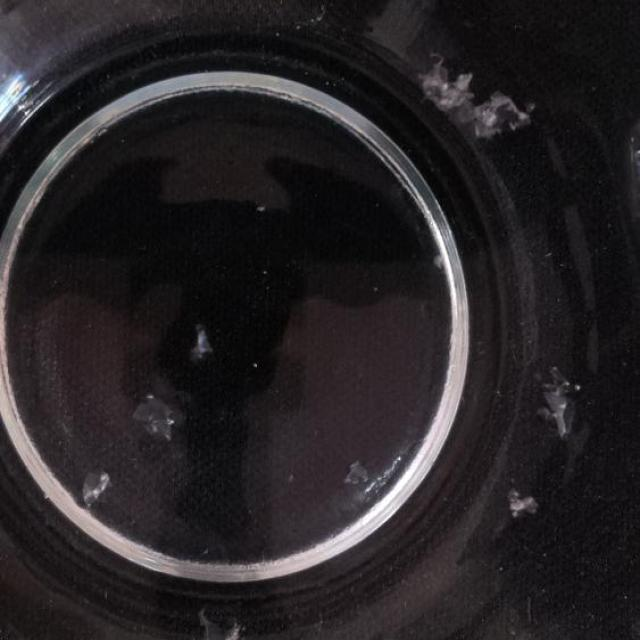fiber: (414, 59, 530, 144), (532, 367, 575, 441), (129, 392, 178, 442), (202, 609, 244, 640), (507, 482, 538, 523), (84, 466, 109, 505), (346, 455, 370, 491), (188, 330, 212, 358)
